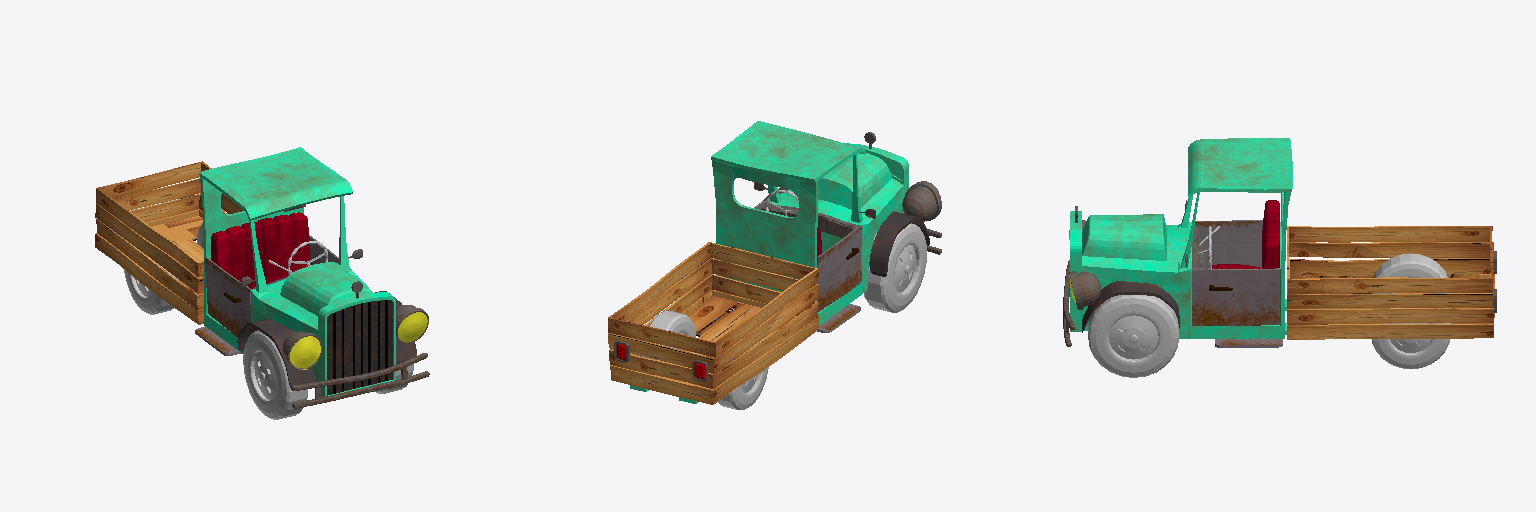
The picture shows the model from 3 angles: view 1: azimuth 30°, elevation 25°; view 2: azimuth 150°, elevation 25°; view 3: azimuth 270°, elevation 25°; orthographic projection.
Parts seen in each view (by area): view 1: truck.001, truck_wheel.002, truck_wheel__rear.001; view 2: truck.001, truck_wheel.002, truck_wheel__rear.001; view 3: truck.001, truck_wheel.002, truck_wheel__rear.001.
Part boxes in pixels (left/top/right/bottom): truck.001: left=95, top=147, right=429, bottom=408; truck_wheel.002: left=243, top=330, right=413, bottom=419; truck_wheel__rear.001: left=124, top=223, right=202, bottom=314; truck.001: left=608, top=121, right=941, bottom=404; truck_wheel.002: left=864, top=223, right=926, bottom=312; truck_wheel__rear.001: left=640, top=311, right=768, bottom=409; truck.001: left=1063, top=138, right=1496, bottom=347; truck_wheel.002: left=1088, top=295, right=1178, bottom=377; truck_wheel__rear.001: left=1372, top=253, right=1450, bottom=368.
Bounding box in the file's own units: 8.32 × 10.39 × 22.01.
Materials: 14 (9 with a texture image).